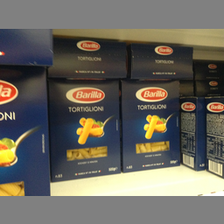pasta: (47, 78, 122, 182), (120, 80, 184, 173)
